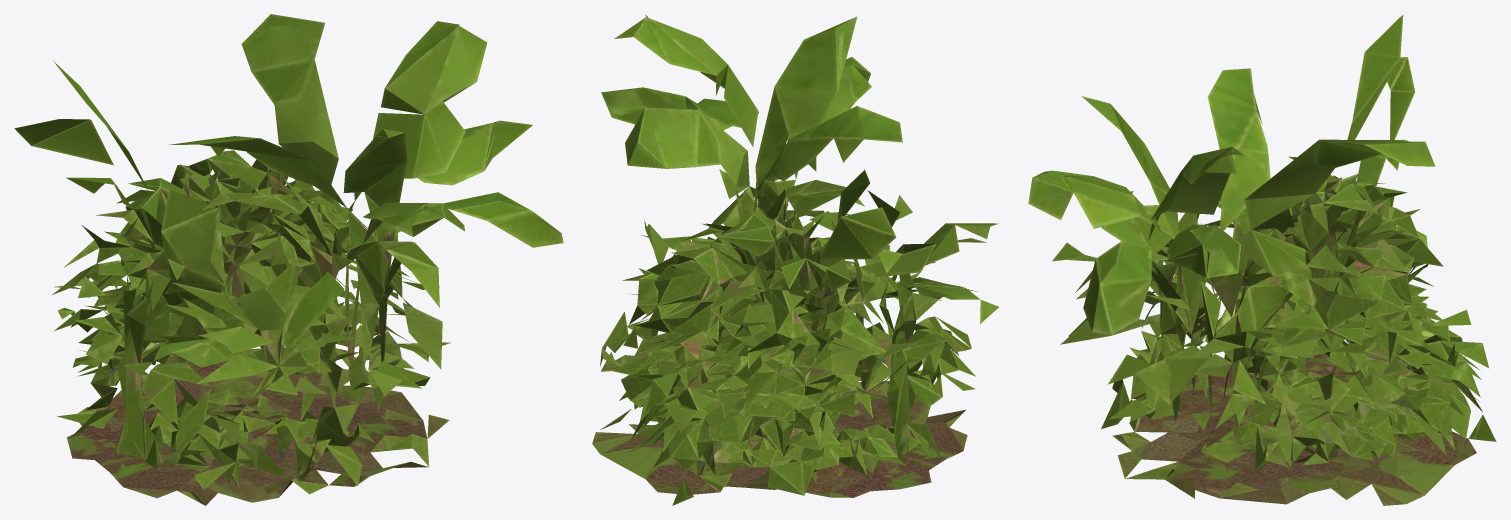
The model's file is bush.glb.
3 renders of one model, left to right at view 1: azimuth 30°, elevation 25°; view 2: azimuth 150°, elevation 25°; view 3: azimuth 270°, elevation 25°, orthographic. The views are drawn at different scales.
Parts seen in each view (by area): view 1: Mesh_0; view 2: Mesh_0; view 3: Mesh_0.
Part boxes in pixels (box(x1,y1,x2,y2)): Mesh_0: box(14, 14, 563, 505); Mesh_0: box(592, 14, 998, 505); Mesh_0: box(1028, 14, 1496, 505).
Bounding box in the file's own units: 1.66 × 1.46 × 1.65.
Materials: 1 (1 with a texture image).
